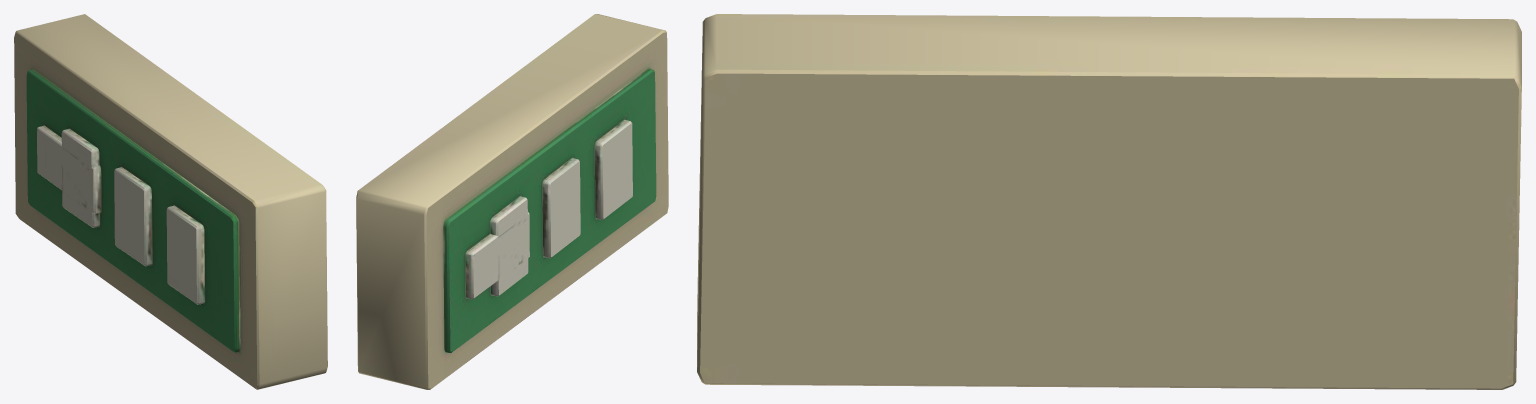
Rendered from LV_exit_sign.glb.
3 renders of one model, left to right at view 1: azimuth 30°, elevation 25°; view 2: azimuth 150°, elevation 25°; view 3: azimuth 270°, elevation 25°, orthographic. The views are drawn at different scales.
Parts seen in each view (by area): view 1: LV_exit_sign; view 2: LV_exit_sign; view 3: LV_exit_sign.
Part boxes in pixels (x1,y1,x2,y2): LV_exit_sign: [14, 14, 327, 389]; LV_exit_sign: [356, 14, 668, 389]; LV_exit_sign: [697, 14, 1521, 389].
Size of the model in its own units: 0.082 by 0.18 by 0.42.
Materials: 1 (1 with a texture image).
